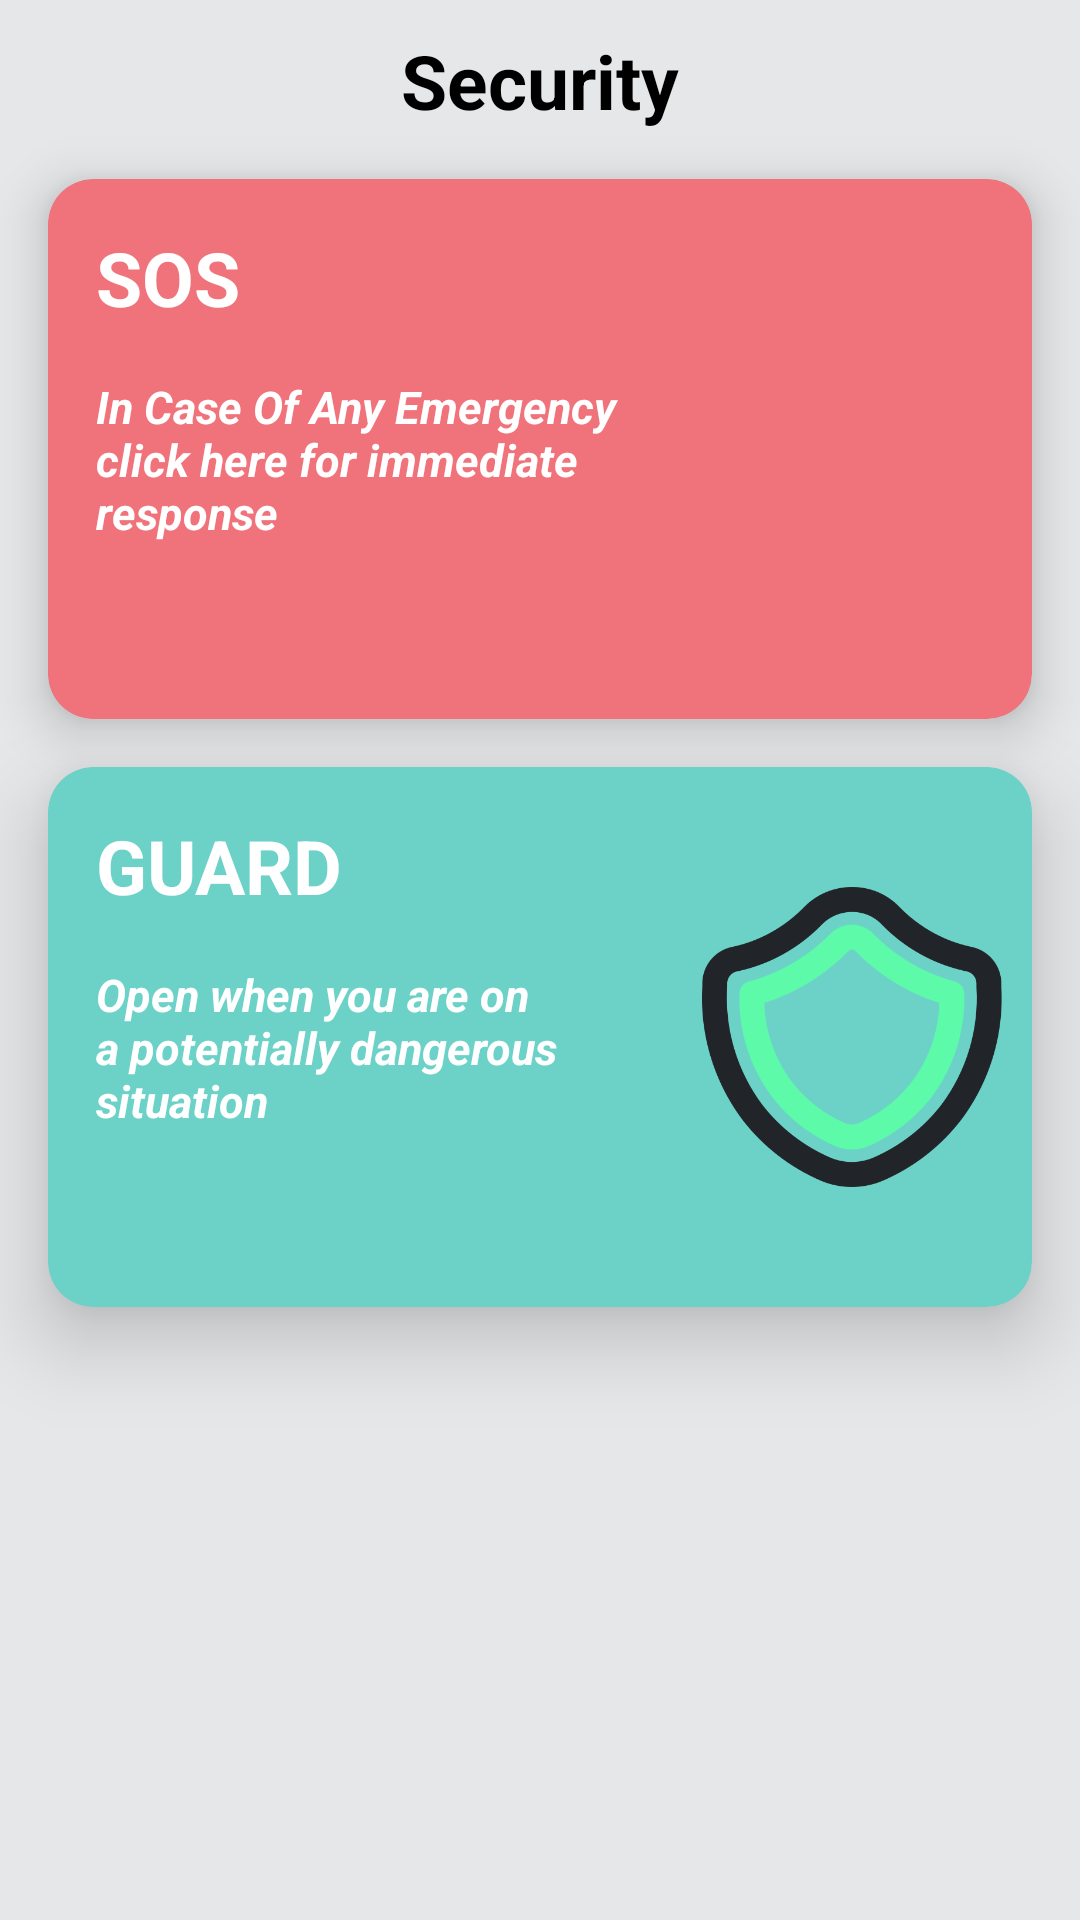

Icons on this 1080 x 1920 Android screen, each with its box as {"left": x1, "top": y1, "right": x2, "bottom": y2}:
shield: {"left": 702, "top": 887, "right": 1002, "bottom": 1187}
